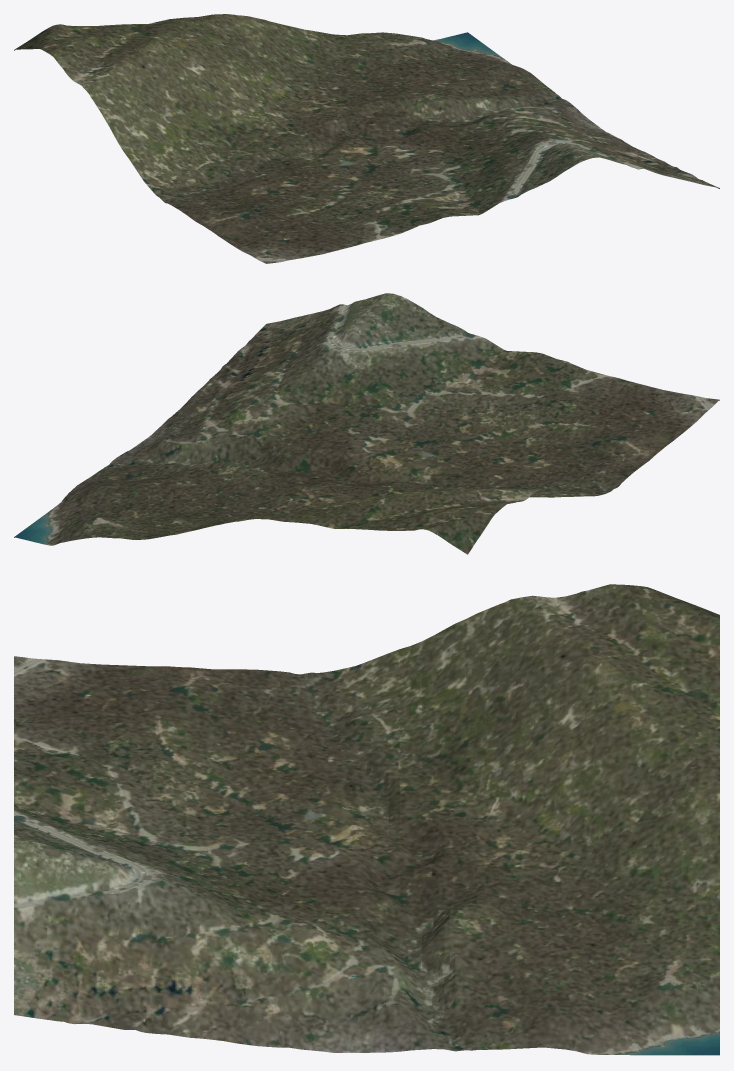
3 views of the same model, one above another, from view 1: azimuth 30°, elevation 25°; view 2: azimuth 150°, elevation 25°; view 3: azimuth 270°, elevation 25° (orthographic). The views are drawn at different scales.
Bounding box in the file's own units: 500 × 122 × 481.
Materials: 1 (1 with a texture image).
